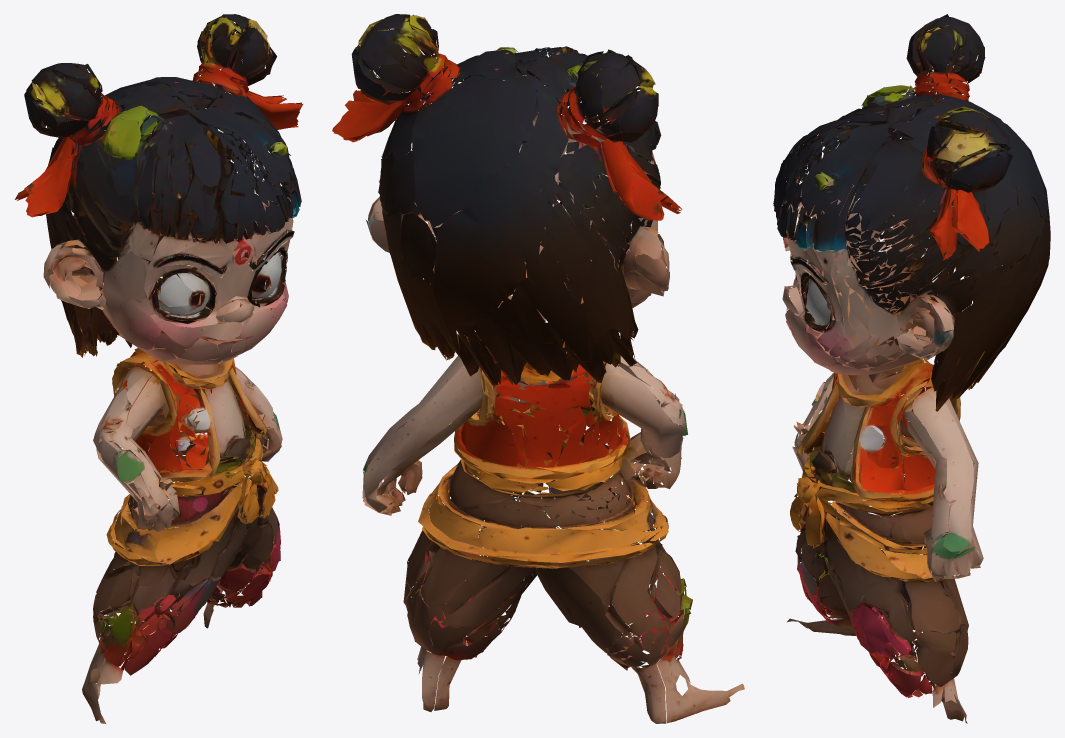
The model's file is rider_nezha_gen.glb.
3 views of the same model, side by side, from view 1: azimuth 30°, elevation 25°; view 2: azimuth 150°, elevation 25°; view 3: azimuth 270°, elevation 25° (orthographic). The views are drawn at different scales.
Visible parts, largest first — view 1: rider_nezha_gen; view 2: rider_nezha_gen; view 3: rider_nezha_gen.
Boxes of the visible parts, <box> form: rider_nezha_gen: <box>14,14,302,723</box>; rider_nezha_gen: <box>332,14,744,723</box>; rider_nezha_gen: <box>773,14,1050,723</box>.
Bounding box in the file's own units: 0.908 × 1.85 × 0.7406.
Materials: 1 (1 with a texture image).
